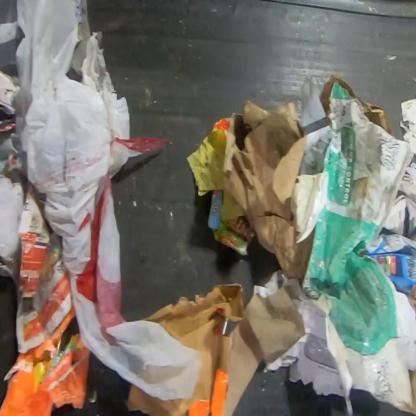cardboard: (126, 282, 306, 416), (186, 98, 316, 282), (318, 70, 396, 138), (358, 233, 416, 313), (208, 186, 258, 258), (408, 368, 415, 415)
metal: (214, 114, 232, 132)
soft_plastic: (16, 0, 205, 401), (0, 0, 24, 83)
